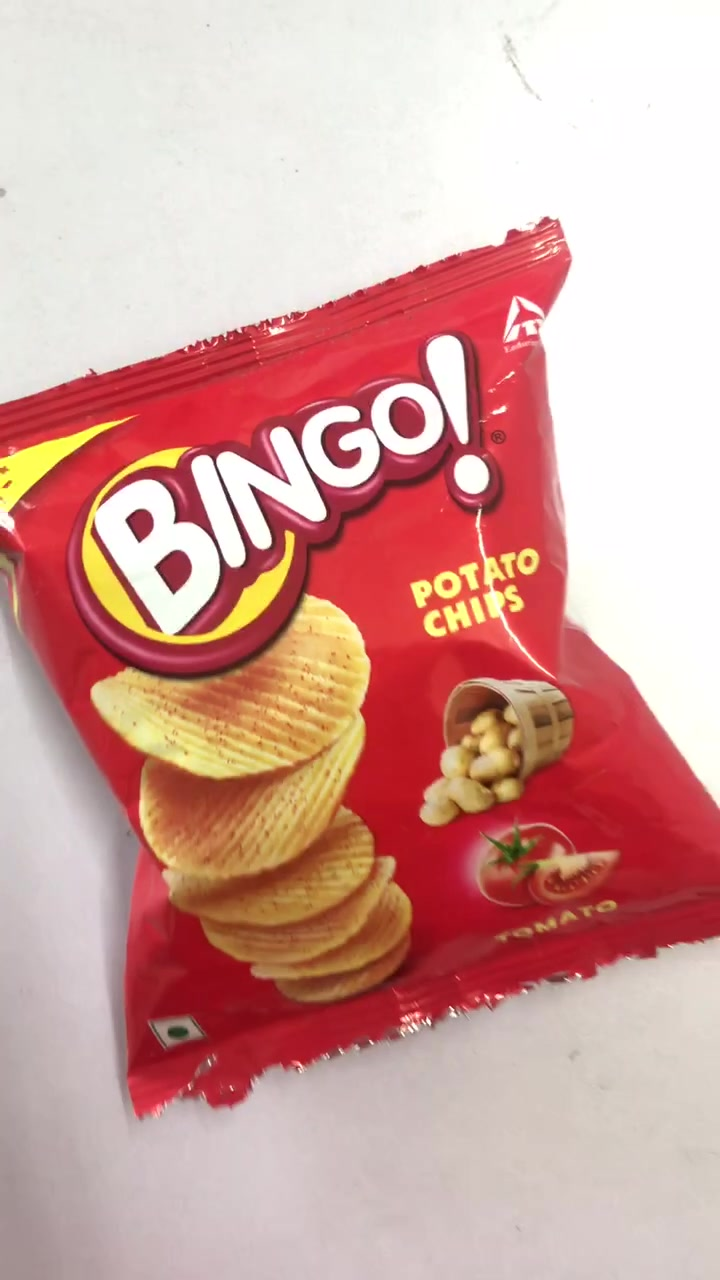Bingo: (1, 268, 720, 1043)
